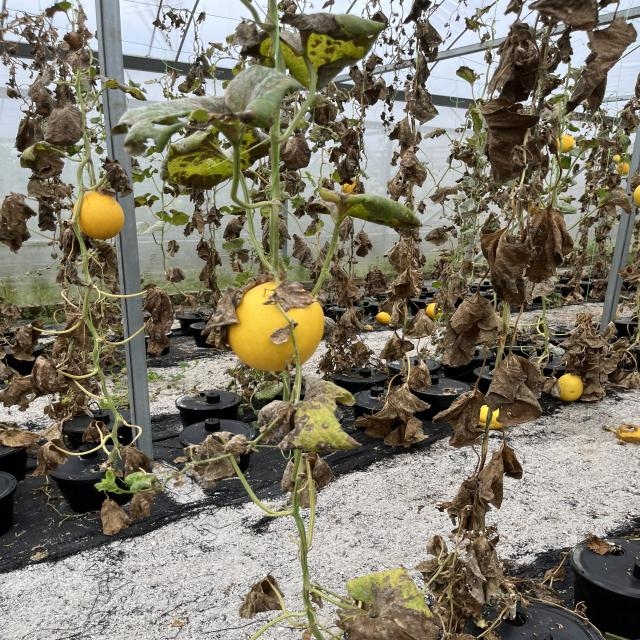alternaria leaf blight: (158, 121, 277, 192)
bacterial wilt: (110, 62, 302, 159), (239, 11, 388, 92), (256, 372, 364, 454), (332, 562, 442, 640), (560, 15, 638, 116), (472, 96, 542, 185), (310, 187, 424, 233), (482, 352, 545, 429), (488, 20, 542, 101), (478, 226, 532, 305), (185, 429, 252, 485), (525, 205, 574, 279), (432, 388, 486, 449), (236, 571, 288, 620), (0, 190, 38, 254), (527, 0, 602, 31), (260, 278, 320, 314), (449, 289, 498, 333), (27, 437, 72, 480), (43, 101, 84, 146), (5, 319, 48, 361), (0, 362, 40, 405), (95, 496, 135, 538), (143, 282, 175, 334), (101, 156, 138, 198), (403, 84, 440, 125), (496, 437, 527, 483), (386, 382, 432, 413), (23, 147, 65, 179), (398, 145, 429, 188), (473, 450, 499, 501), (380, 330, 416, 364), (120, 444, 154, 479), (401, 357, 433, 392), (31, 354, 59, 392), (401, 308, 434, 340), (416, 21, 446, 54), (17, 109, 40, 152), (290, 232, 316, 269), (389, 240, 419, 270), (36, 200, 60, 231), (27, 72, 52, 101), (222, 215, 249, 240), (330, 272, 352, 302), (353, 230, 375, 258), (190, 205, 206, 235), (194, 237, 213, 260)
